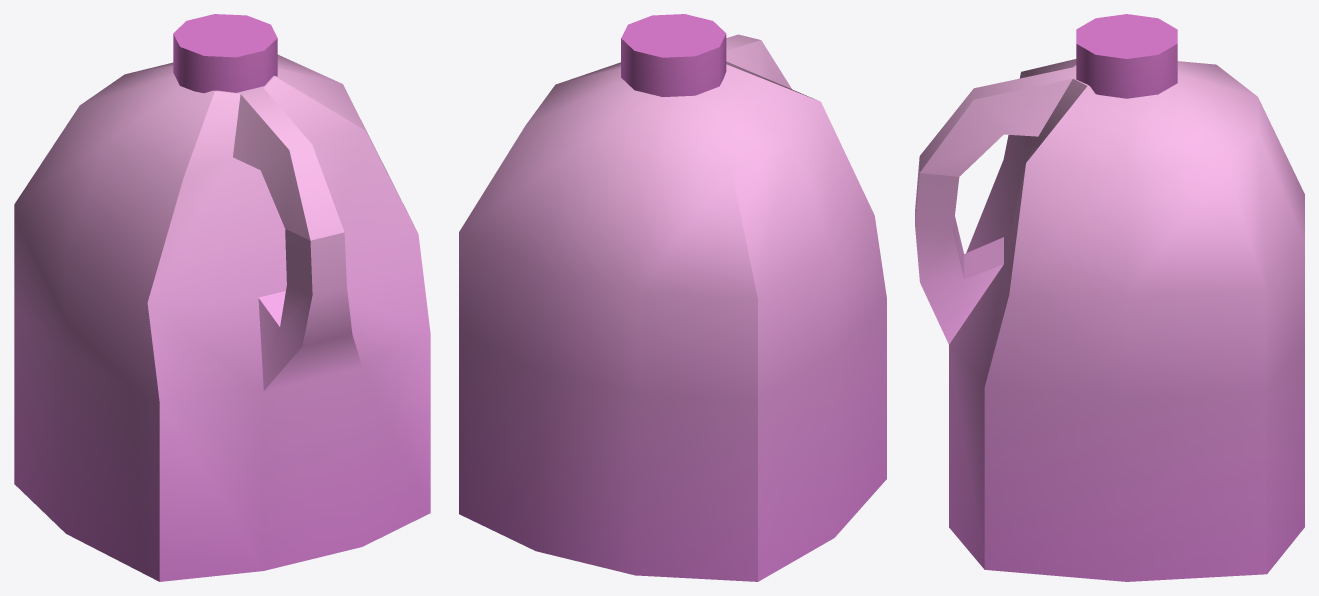
The model's file is MilkStrawberry.fbx.
The picture shows the model from 3 angles, left to right: view 1: azimuth 30°, elevation 25°; view 2: azimuth 150°, elevation 25°; view 3: azimuth 270°, elevation 25°; orthographic projection.
Visible parts, largest first — view 1: MilkStrawberry; view 2: MilkStrawberry; view 3: MilkStrawberry.
Part boxes in pixels (box(x1,y1,x2,y2)): MilkStrawberry: box(14, 14, 430, 581); MilkStrawberry: box(459, 14, 886, 581); MilkStrawberry: box(915, 14, 1304, 581).
Size of the model in its own units: 40 by 41.66 by 55.
